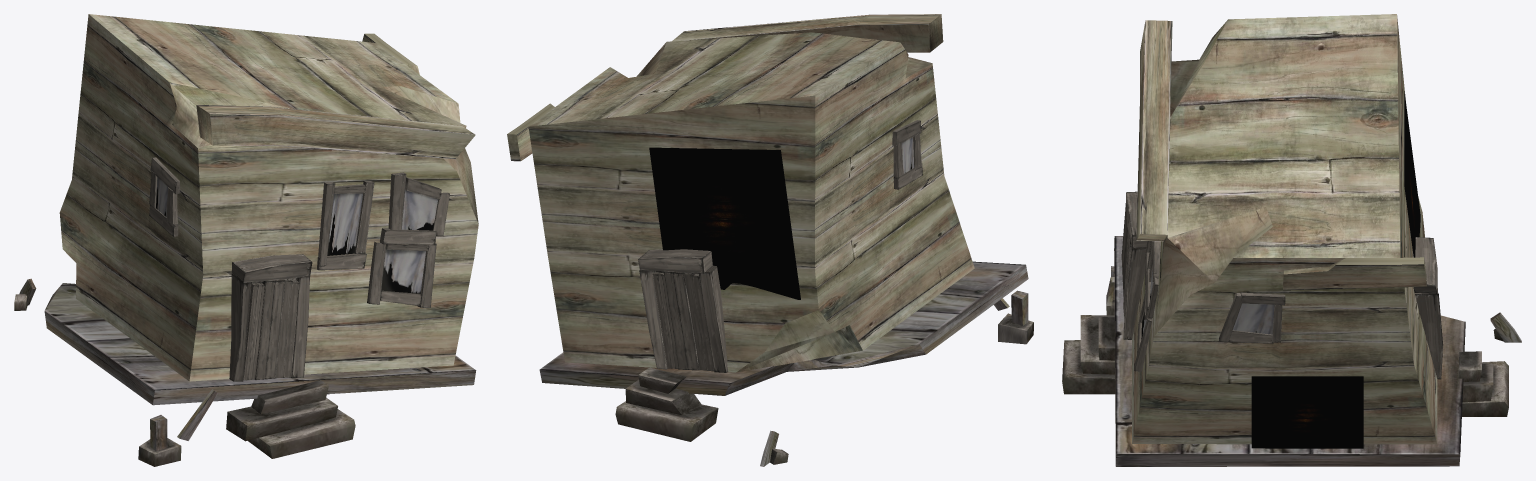
File: pir_m_bld_shn_houseC_destroyed.fbx
3 renders of one model, left to right at view 1: azimuth 30°, elevation 25°; view 2: azimuth 150°, elevation 25°; view 3: azimuth 270°, elevation 25°, orthographic. The views are drawn at different scales.
Visible parts, largest first — view 1: shanty_tavern_polySurface147, platform, polySurface143, door_right, stair2, stair1, door_frame_1, win_certurn.004, door_frame_3, win_certurn.001, stair3, door_frame_2 (+15 smaller); view 2: shanty_tavern_polySurface147, pPlane2, platform, polySurface143, door_left, stair1.001, door_frame_2.001, door_frame_1.001, stair2.001, door_frame_3.001, polySurface145, stair3.001 (+2 smaller); view 3: shanty_tavern_polySurface147, platform, pPlane1, polySurface143, polySurface145, stair1, door_frame_3.001, stair1.001, pPlane2, stair2, door_frame_2, win_certurn.002 (+9 smaller).
Part boxes in pixels (box(x1,y1,x2,y2)): shanty_tavern_polySurface147: box(59, 14, 478, 381); platform: box(44, 283, 476, 405); polySurface143: box(196, 105, 475, 159); door_right: box(243, 279, 299, 380); stair2: box(226, 397, 337, 441); stair1: box(248, 409, 355, 458); door_frame_1: box(231, 254, 312, 282); win_certurn.004: box(327, 193, 362, 255); door_frame_3: box(229, 274, 251, 381); win_certurn.001: box(381, 249, 425, 293); stair3: box(251, 380, 328, 414); door_frame_2: box(291, 276, 309, 378); shanty_tavern_polySurface147: box(528, 32, 974, 372); pPlane2: box(649, 147, 800, 299); platform: box(539, 261, 1028, 395); polySurface143: box(672, 14, 943, 52); door_left: box(652, 271, 713, 371); stair1.001: box(615, 401, 718, 441); door_frame_2.001: box(698, 265, 727, 372); door_frame_1.001: box(638, 249, 712, 273); stair2.001: box(625, 379, 701, 414); door_frame_3.001: box(639, 270, 667, 369); polySurface145: box(507, 103, 554, 161); stair3.001: box(638, 367, 686, 393); shanty_tavern_polySurface147: box(1132, 14, 1437, 444); platform: box(1114, 236, 1465, 466); pPlane1: box(1251, 376, 1363, 448); polySurface143: box(1136, 20, 1172, 241); polySurface145: box(1283, 257, 1426, 290); stair1: box(1062, 340, 1115, 394); door_frame_3.001: box(1414, 292, 1443, 379); stair1.001: box(1462, 361, 1508, 416); pPlane2: box(1404, 91, 1420, 257); stair2: box(1080, 315, 1114, 374); door_frame_2: box(1123, 246, 1146, 339); win_certurn.002: box(1233, 303, 1274, 334).
Size of the model in its own units: 3750 by 3109 by 3883.
3 materials, 3 textured.
